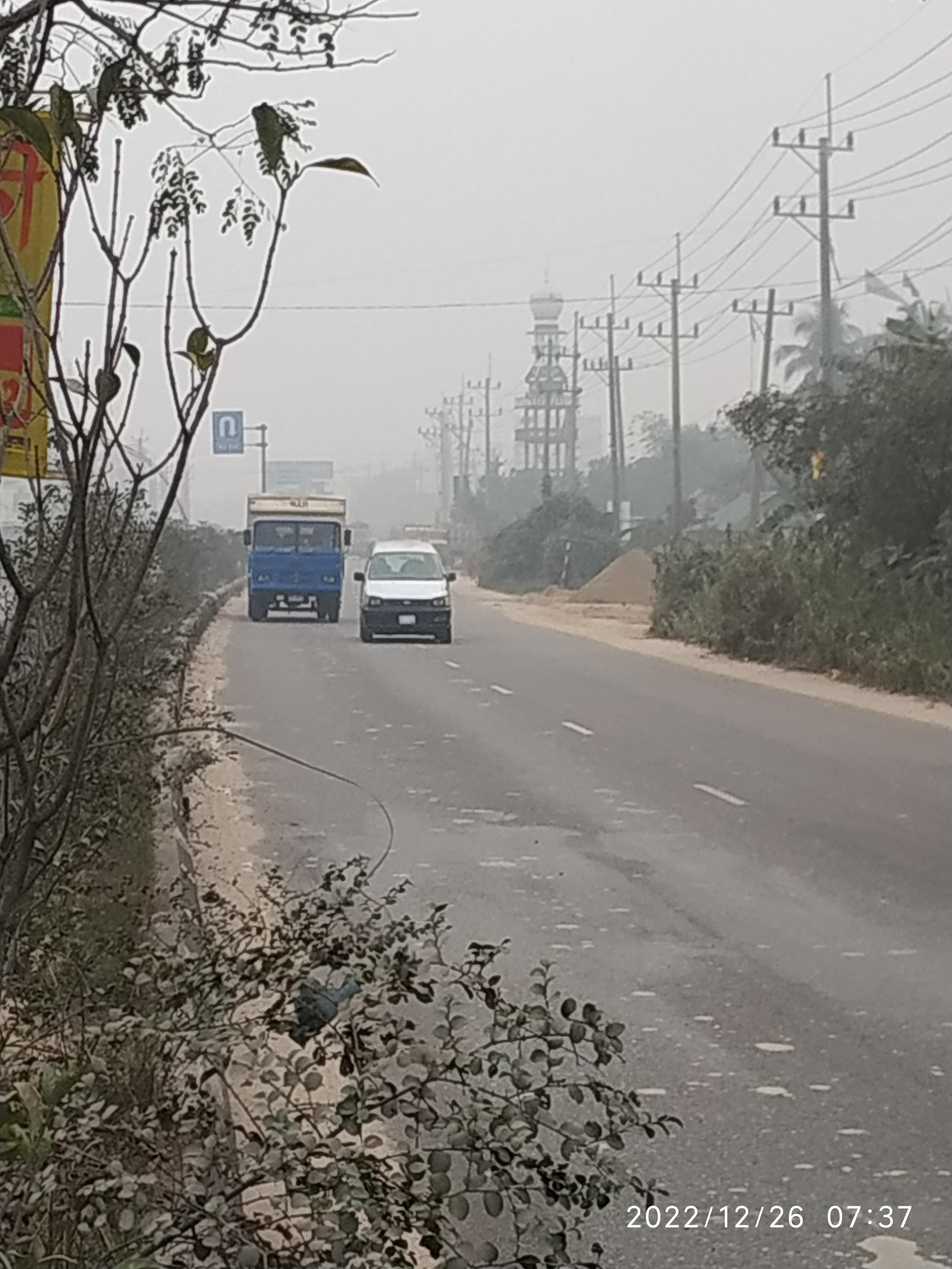Car: (353, 523, 481, 658)
Truck: (236, 476, 347, 632)
